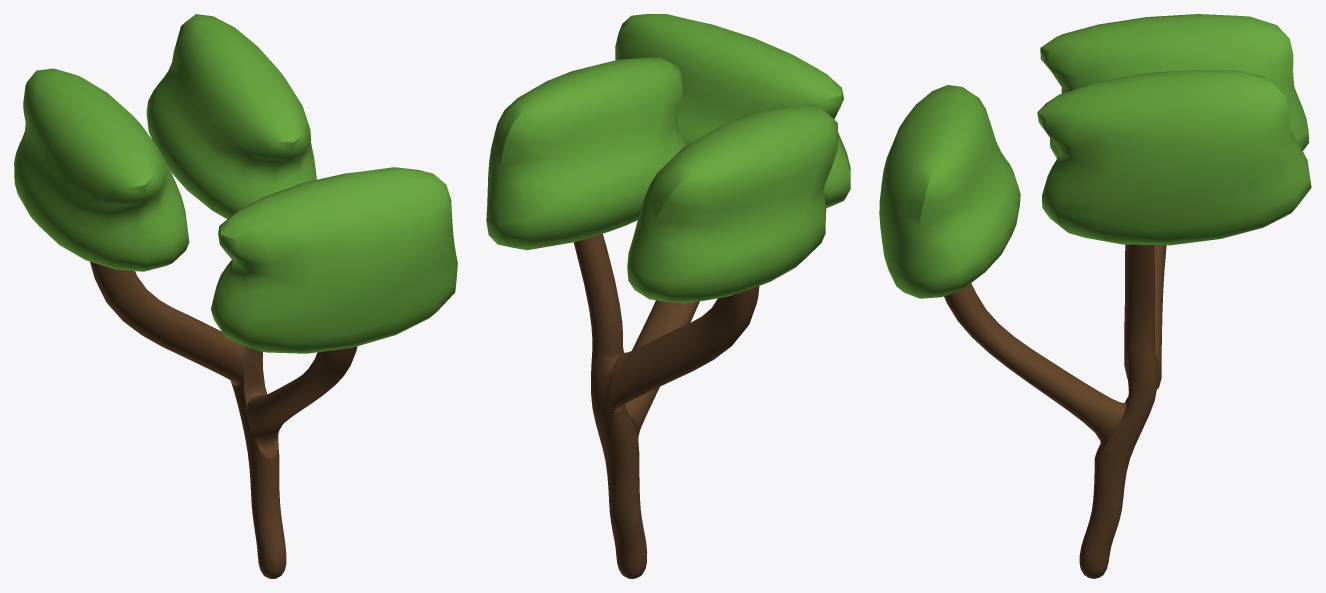
File: Tree 7.fbx
The picture shows the model from 3 angles, left to right: view 1: azimuth 30°, elevation 25°; view 2: azimuth 150°, elevation 25°; view 3: azimuth 270°, elevation 25°; orthographic projection. The views are drawn at different scales.
Parts seen in each view (by area): view 1: Cube; view 2: Cube; view 3: Cube.
Part boxes in pixels (x1=…): Cube: x1=14, y1=14, x2=457, y2=578; Cube: x1=486, y1=14, x2=850, y2=578; Cube: x1=879, y1=14, x2=1311, y2=578.
Bounding box in the file's own units: 551 × 880 × 680.
